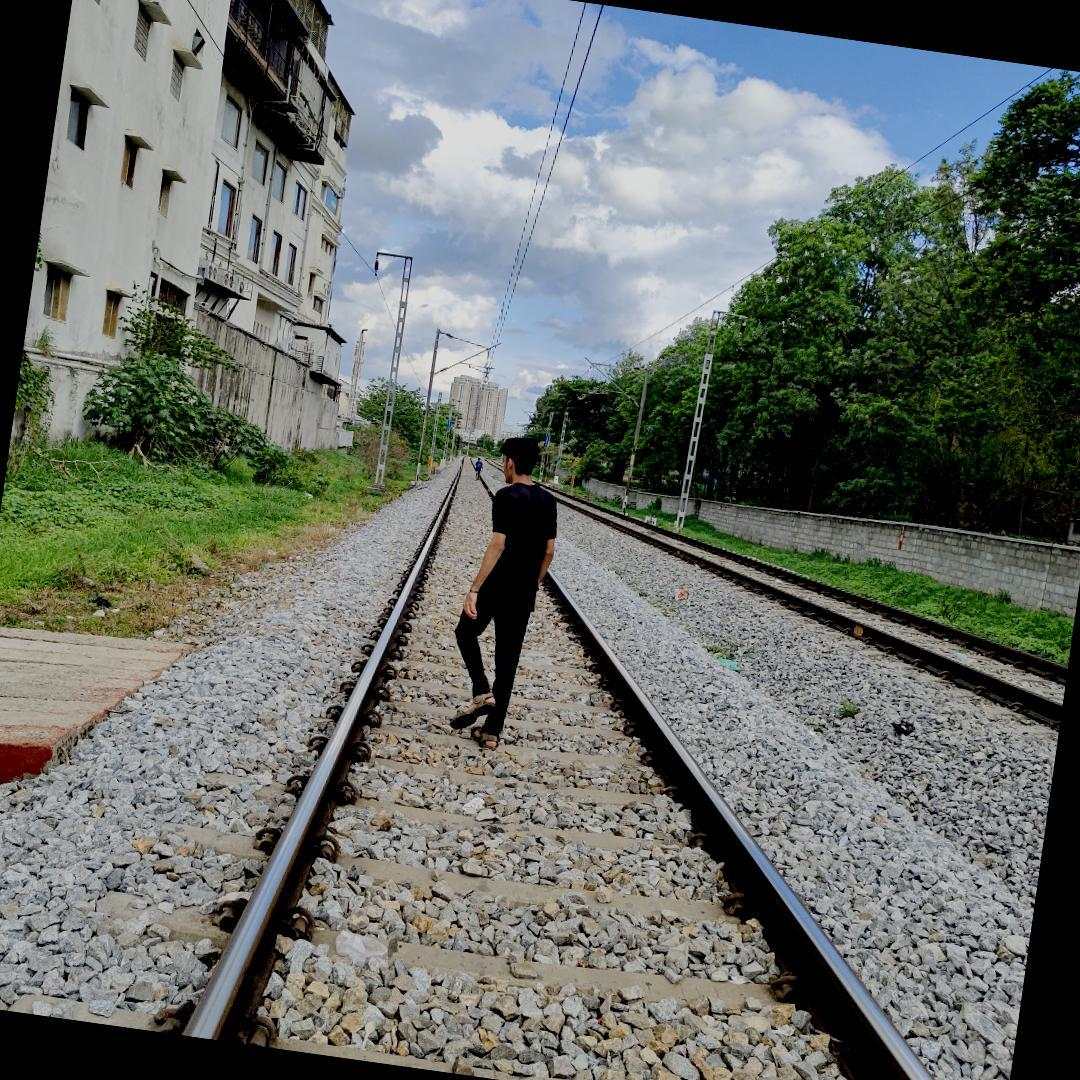standing: (420, 419, 578, 760)
